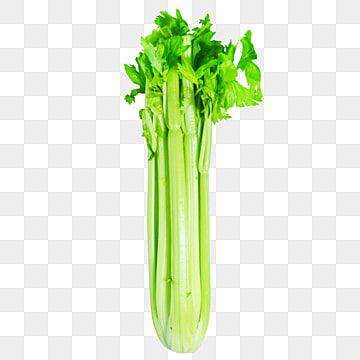Seledri: (104, 10, 304, 360)
